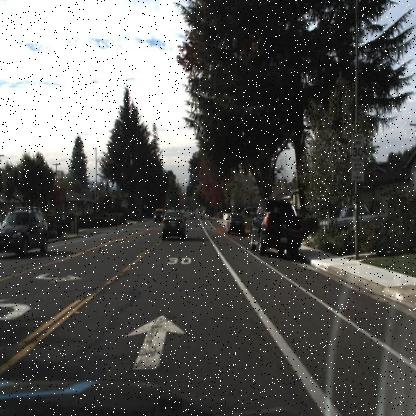car: (246, 195, 306, 261), (0, 206, 50, 258), (313, 198, 380, 232), (158, 208, 191, 241), (224, 210, 249, 238), (225, 209, 254, 232), (150, 206, 164, 225)
